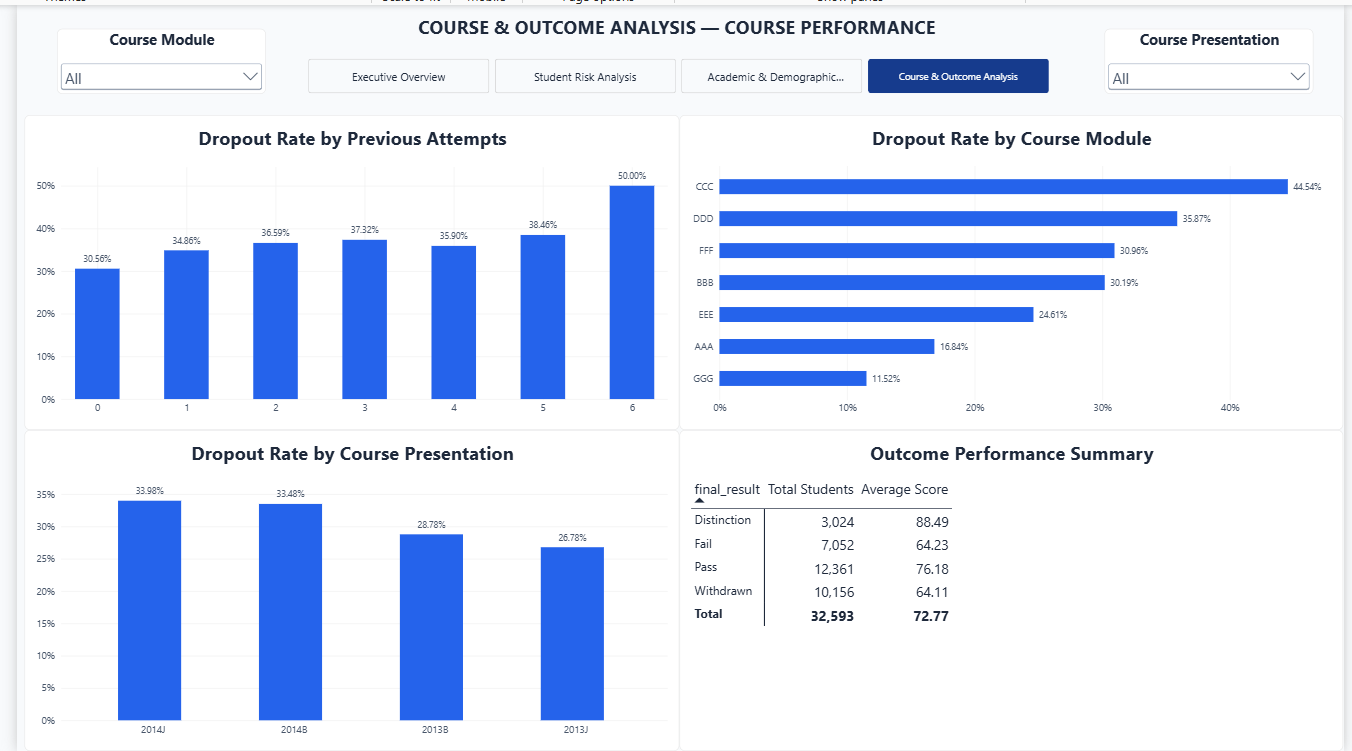

The page's visual inventory and layout, read from the dashboard file:
{"tool":"powerbi","page":{"name":"Course & Outcome Analysis","canvas":[1920,1080],"ordinal":3},"visuals":[{"type":"clusteredColumnChart","title":"Dropout Rate by Previous Attempts","fields":{"Y":["public master_analytical_dataset.Dropout Rate"],"Category":["public master_analytical_dataset.num_of_prev_attempts"]},"box":[10.9,159.3,948.3,456],"z":0},{"type":"clusteredBarChart","title":"Dropout Rate by Course Module","fields":{"Y":["public master_analytical_dataset.Dropout Rate"],"Category":["public master_analytical_dataset.code_module"]},"box":[959.1,159.3,960.9,456],"z":1000},{"type":"clusteredColumnChart","title":"Dropout Rate by Course Presentation","fields":{"Category":["public master_analytical_dataset.code_presentation"],"Y":["public master_analytical_dataset.Dropout Rate"]},"box":[10.9,615.3,948.3,465.1],"z":2000},{"type":"pivotTable","title":"Outcome Performance Summary","fields":{"Rows":["public master_analytical_dataset.final_result"],"Values":["public master_analytical_dataset.Total Students","public master_analytical_dataset.Average Score"]},"box":[959.1,615.3,960.9,465.1],"z":3000},{"type":"textbox","box":[580.9,12.7,754.6,43.4],"z":4000},{"type":"slicer","title":"Course Module","fields":{"Values":["public master_analytical_dataset.code_module"]},"box":[57.9,34.4,302.2,94.1],"z":5000},{"type":"slicer","title":"Course Presentation","fields":{"Values":["public master_analytical_dataset.code_presentation"]},"box":[1574.4,34.4,302.2,94.1],"z":6000},{"type":"pageNavigator","box":[421.7,77.8,1073.1,50.7],"z":7000}]}

Visuals, with their boxes on the page's 1920x1080 design canvas (x1, y1, x2, y2). These are canvas units, not pixel positions in the 1352x751 screenshot, which may show the page scaled, cropped or inside an application window:
"Dropout Rate by Previous Attempts" clusteredColumnChart: x1=11 y1=159 x2=959 y2=615
"Dropout Rate by Course Module" clusteredBarChart: x1=959 y1=159 x2=1920 y2=615
"Dropout Rate by Course Presentation" clusteredColumnChart: x1=11 y1=615 x2=959 y2=1080
"Outcome Performance Summary" pivotTable: x1=959 y1=615 x2=1920 y2=1080
textbox: x1=581 y1=13 x2=1336 y2=56
"Course Module" slicer: x1=58 y1=34 x2=360 y2=128
"Course Presentation" slicer: x1=1574 y1=34 x2=1877 y2=128
pageNavigator: x1=422 y1=78 x2=1495 y2=128
